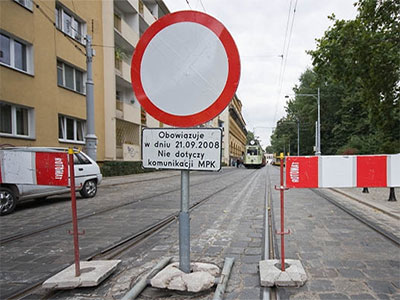no_entry_sign: (130, 10, 241, 127)
